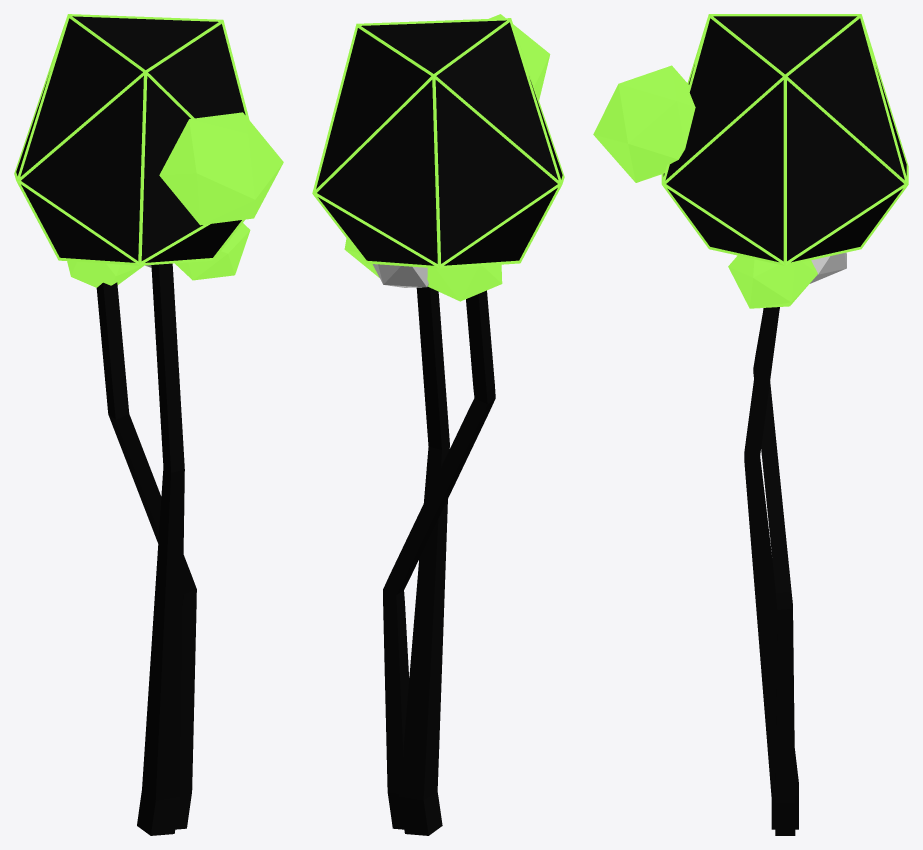
Rendered from Nature_tree_3.glb.
3 renders of one model, left to right at view 1: azimuth 30°, elevation 25°; view 2: azimuth 150°, elevation 25°; view 3: azimuth 270°, elevation 25°, orthographic.
Parts seen in each view (by area): view 1: Icosphere.026; view 2: Icosphere.026; view 3: Icosphere.026.
Part boxes in pixels (box(x1,y1,x2,y2)): Icosphere.026: box(14, 14, 283, 835); Icosphere.026: box(312, 14, 564, 835); Icosphere.026: box(593, 14, 908, 835).
Size of the model in its own units: 1.56 by 4.81 by 1.75.
